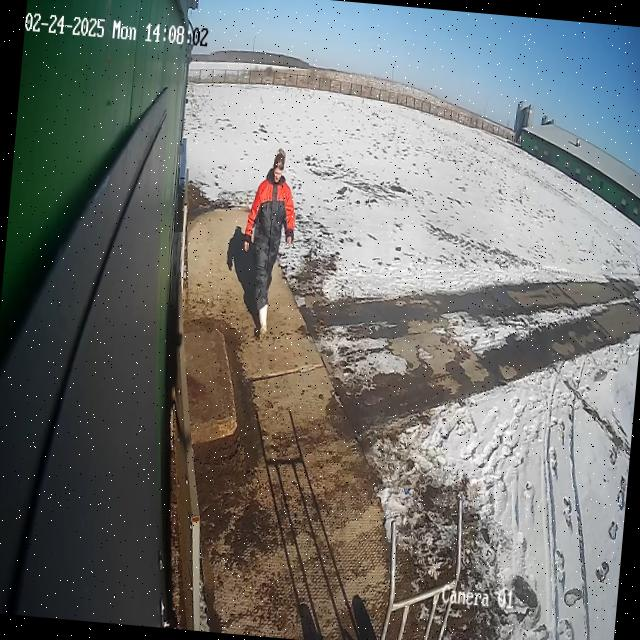Red uniform: (245, 168, 294, 310)
